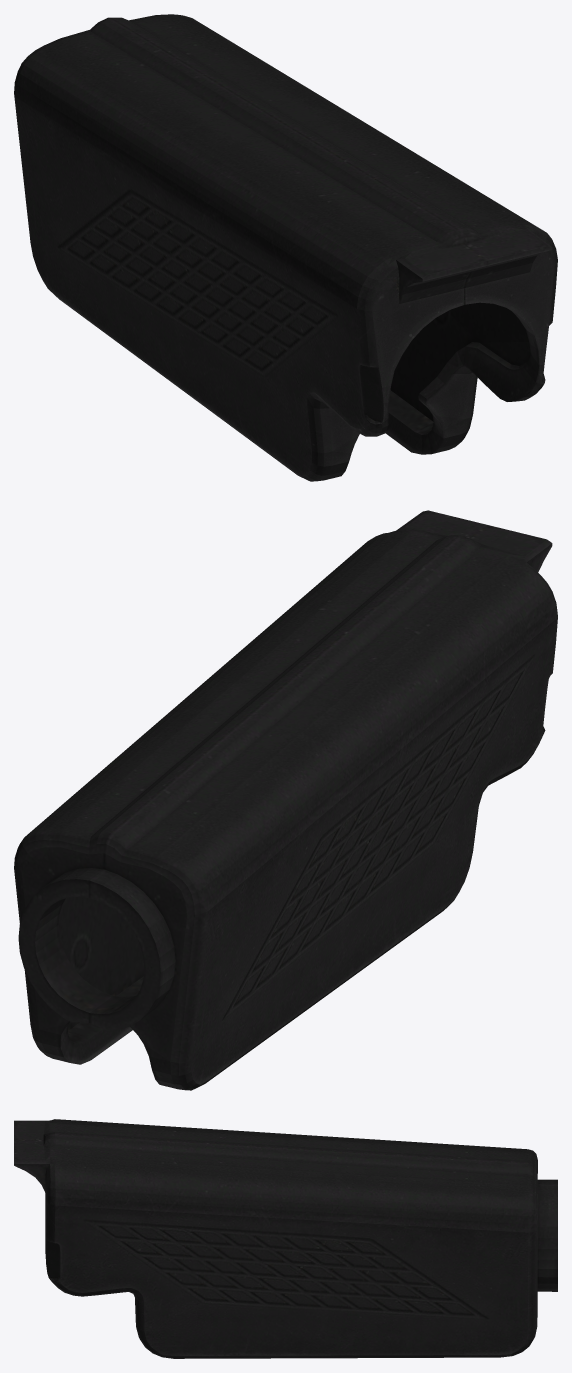
The picture shows the model from 3 angles, top to bottom: view 1: azimuth 30°, elevation 25°; view 2: azimuth 150°, elevation 25°; view 3: azimuth 270°, elevation 25°; orthographic projection. The views are drawn at different scales.
Visible parts, largest first — view 1: TW_6448f2f6d4928d46d30be3f6_PZ_Import; view 2: TW_6448f2f6d4928d46d30be3f6_PZ_Import; view 3: TW_6448f2f6d4928d46d30be3f6_PZ_Import.
Part boxes in pixels (x1=…): TW_6448f2f6d4928d46d30be3f6_PZ_Import: x1=14, y1=14, x2=557, y2=481; TW_6448f2f6d4928d46d30be3f6_PZ_Import: x1=14, y1=510, x2=557, y2=1090; TW_6448f2f6d4928d46d30be3f6_PZ_Import: x1=14, y1=1119, x2=557, y2=1358.
Size of the model in its own units: 0.0209 by 0.0716 by 0.0295.
1 material, 1 textured.
